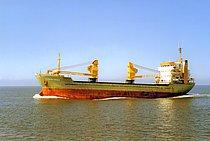Ship: (32, 40, 199, 102)
